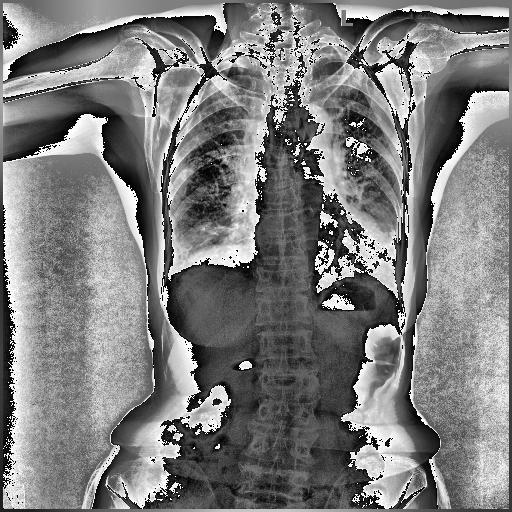0- Aortic enlargement: (283, 102, 335, 150), (295, 102, 334, 156), (291, 103, 333, 144)
10- Pleural effusion: (162, 262, 178, 298)
11- Pleural thickening: (162, 262, 178, 298)
3- Cardiomegaly: (250, 224, 384, 290), (250, 218, 390, 280), (254, 222, 386, 280)
4- Consolidation: (188, 248, 252, 268)
5- ILD: (172, 54, 268, 270), (170, 59, 258, 263), (322, 66, 403, 252), (330, 76, 400, 226)
7- Lung Opacity: (187, 245, 259, 267), (186, 245, 242, 271)
